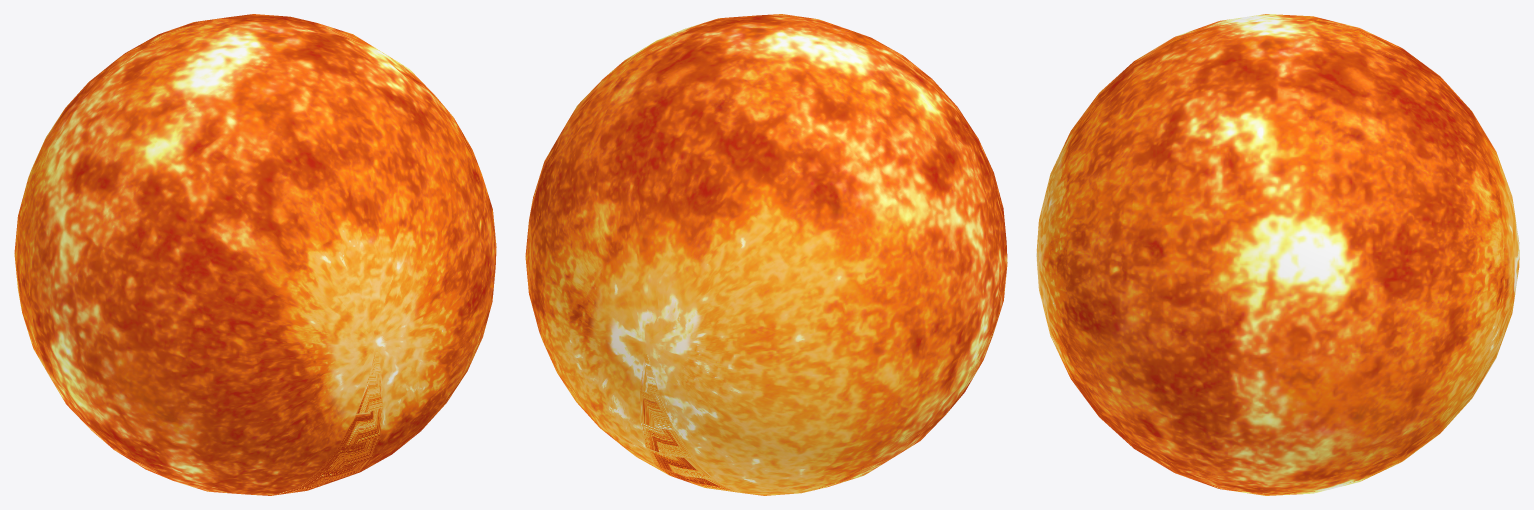
File: sun.glb
3 renders of one model, left to right at view 1: azimuth 30°, elevation 25°; view 2: azimuth 150°, elevation 25°; view 3: azimuth 270°, elevation 25°, orthographic.
Parts seen in each view (by area): view 1: Sun_low; view 2: Sun_low; view 3: Sun_low.
Part boxes in pixels (box(x1,y1,x2,y2)): Sun_low: box(14, 14, 496, 495); Sun_low: box(525, 14, 1007, 495); Sun_low: box(1036, 14, 1519, 495).
Size of the model in its own units: 0.6356 by 0.6356 by 0.6366.
1 material, 1 textured.
